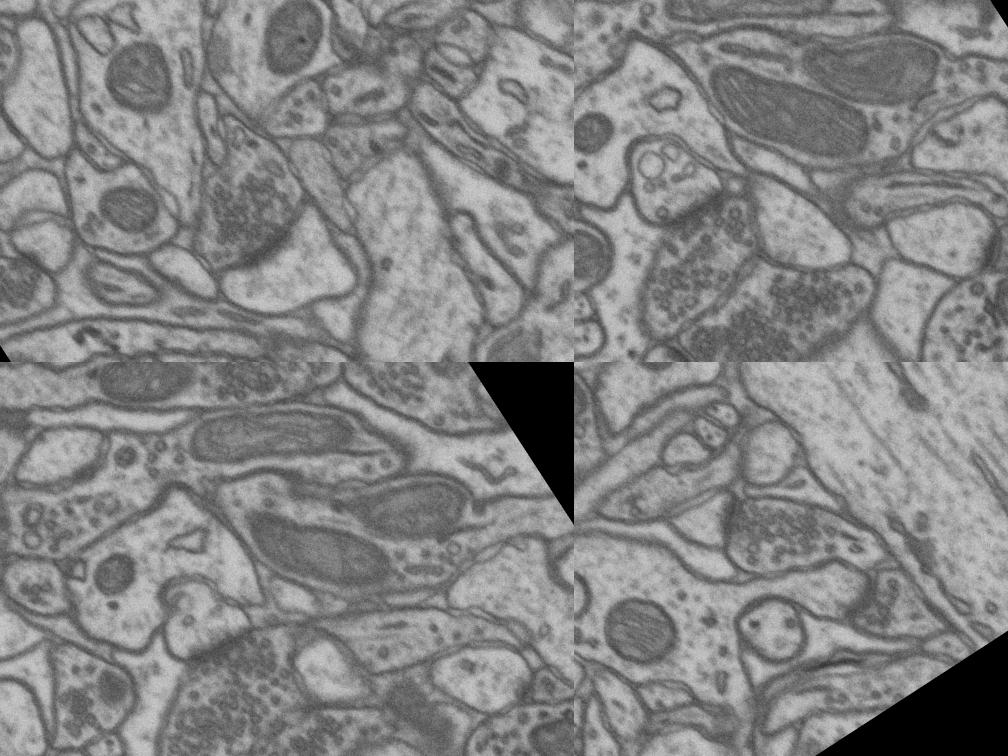mitochondria: (213, 438, 417, 652), (685, 0, 889, 212), (181, 362, 384, 533), (307, 416, 487, 596), (779, 0, 959, 156), (653, 0, 856, 94), (576, 568, 706, 700), (78, 20, 201, 146), (228, 0, 349, 99), (74, 157, 176, 261), (60, 644, 152, 738), (80, 531, 160, 608), (498, 677, 574, 756), (970, 238, 1008, 362), (574, 204, 623, 298), (574, 92, 632, 169), (574, 362, 609, 456), (0, 465, 21, 549), (574, 744, 611, 756)
